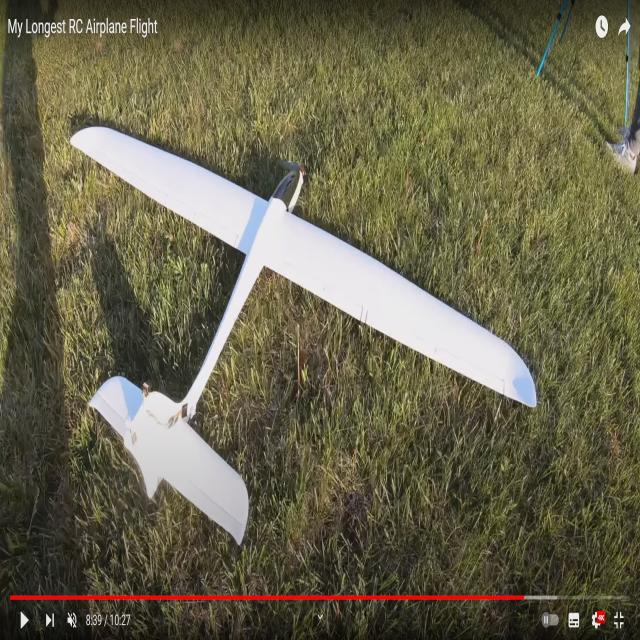iha: (70, 117, 540, 519)
